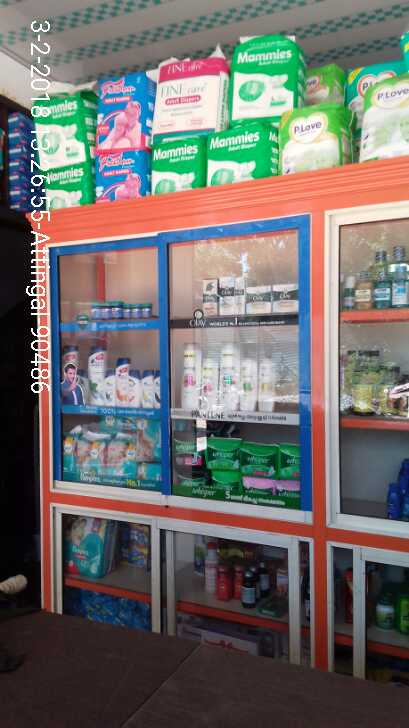vicks: (81, 299, 160, 324)
